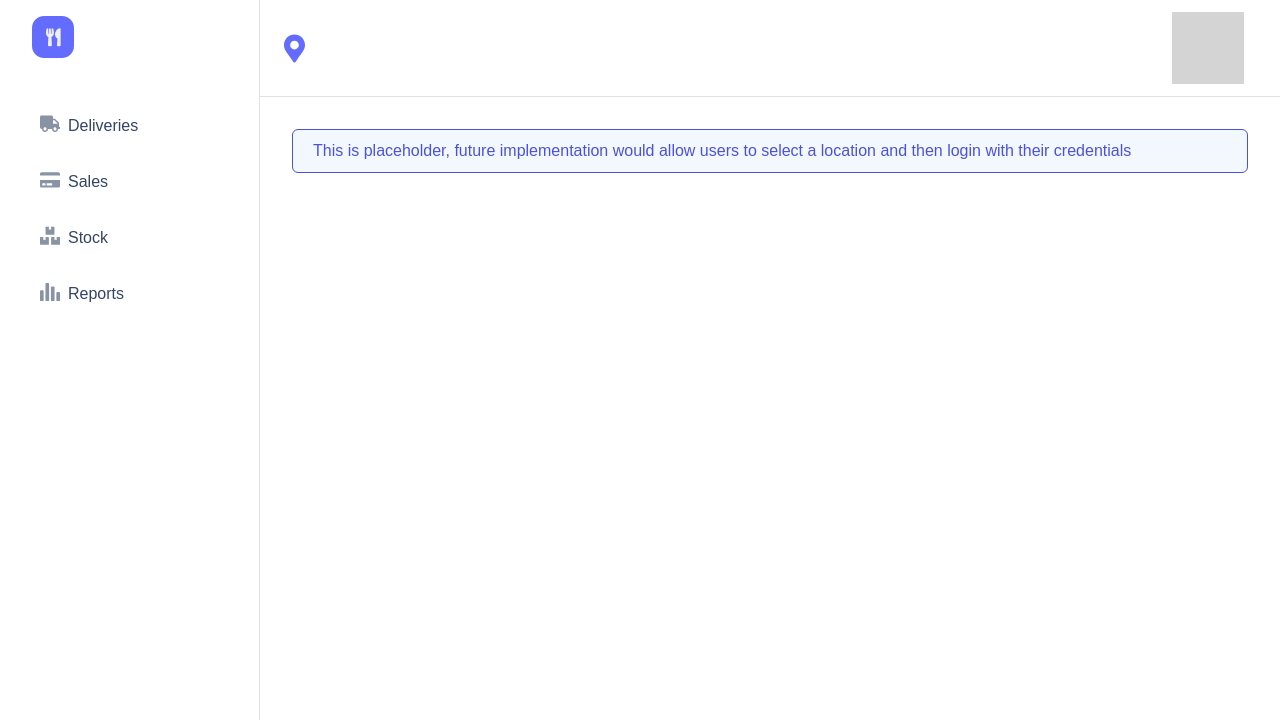
Scenario: App Navigation and Routing › navigates to Deliveries page
The image size is (1280, 720).
Step 1. Click the link with test id "nav-deliveries" → (89, 124), box [40, 114, 138, 134]
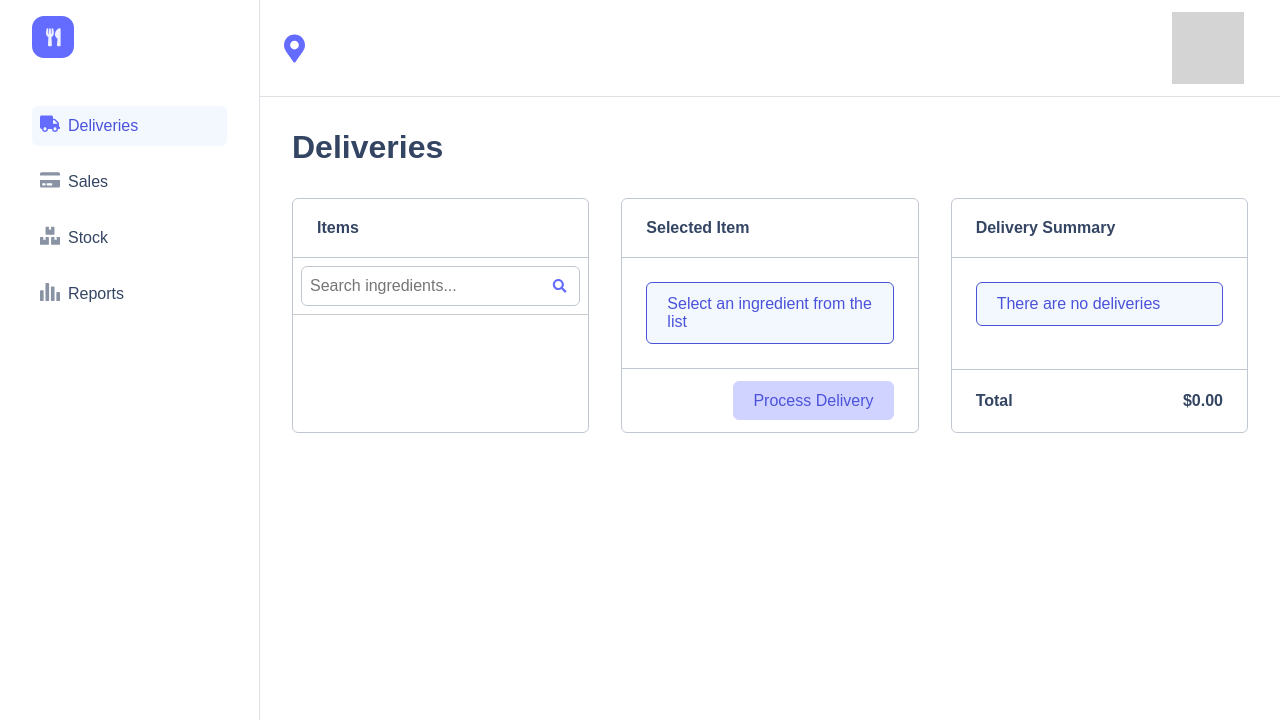
Expected: the element with test id "page-deliveries" is shown, [260, 129, 1279, 433]
